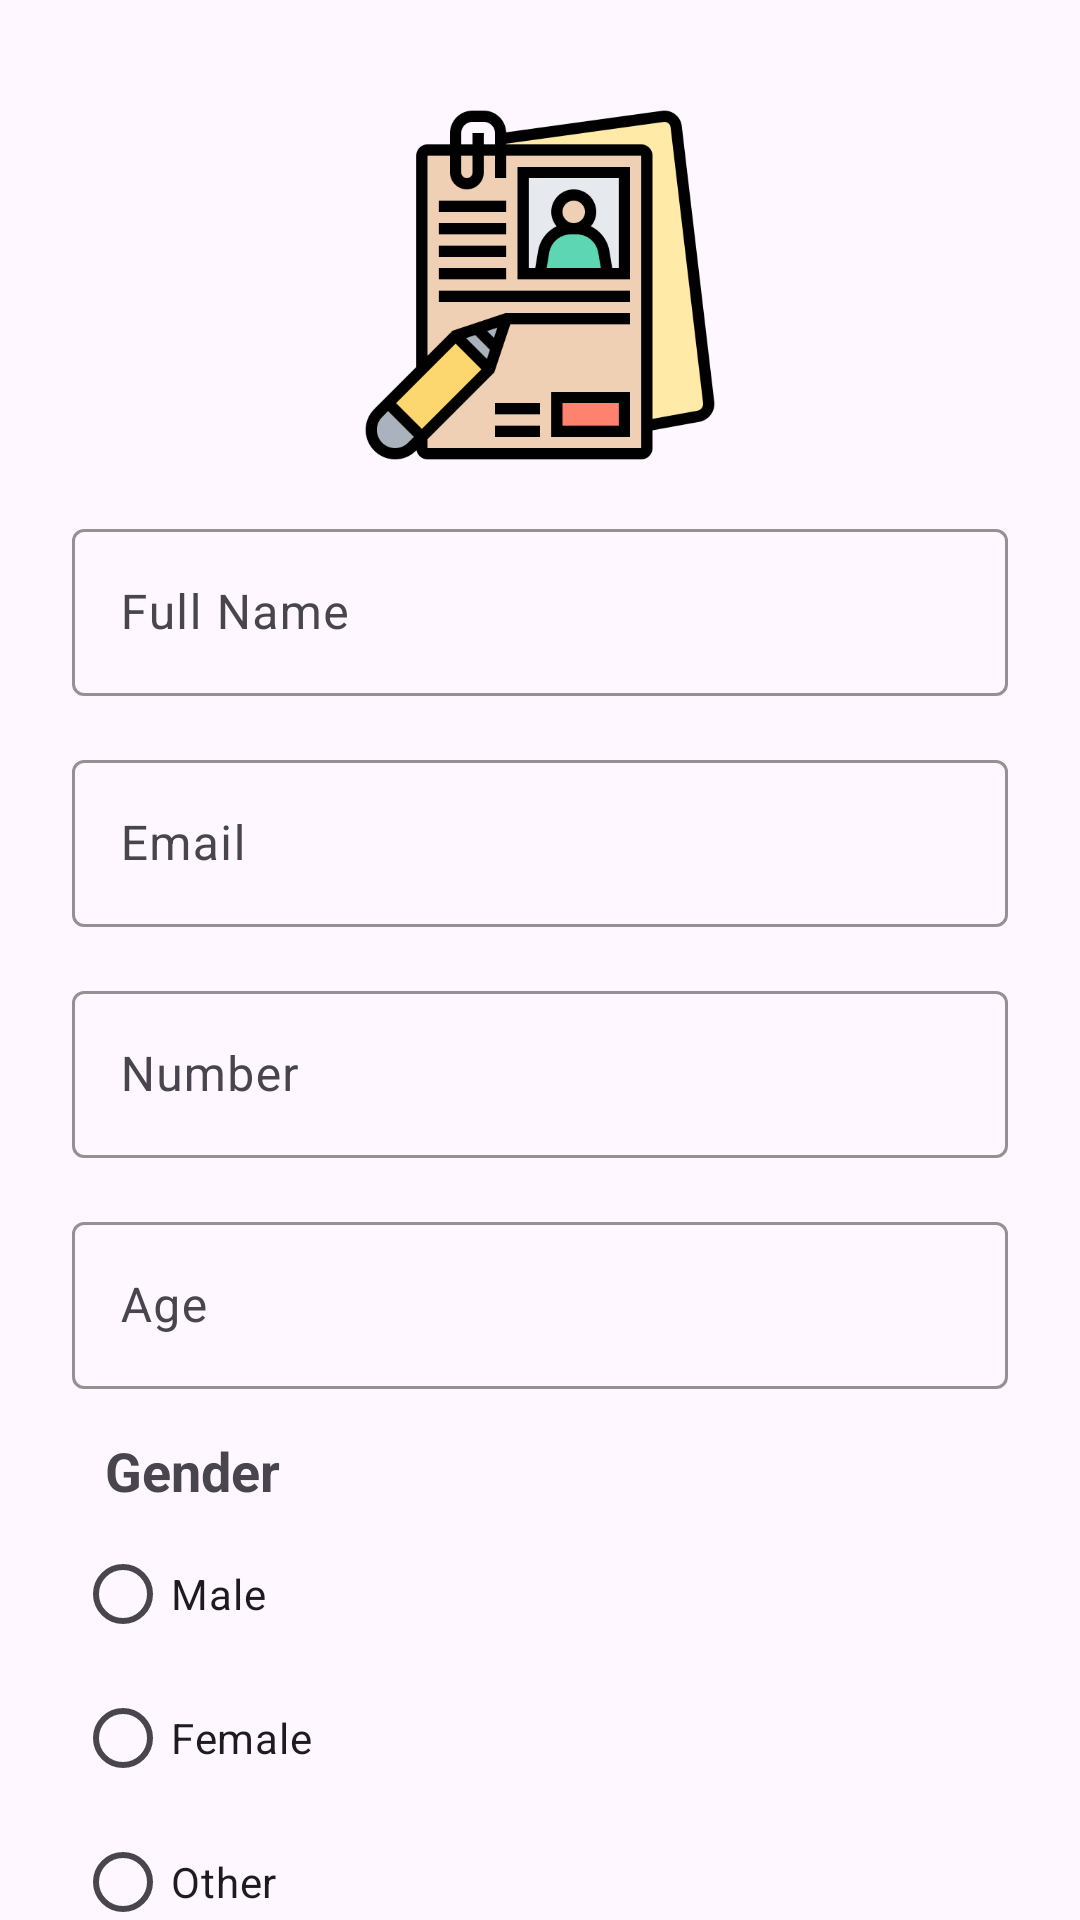

Icon bounding boxes for this 1080×1920 phone screenshot, format rect(x1, y1, x2, y2):
form: rect(365, 110, 715, 460)
